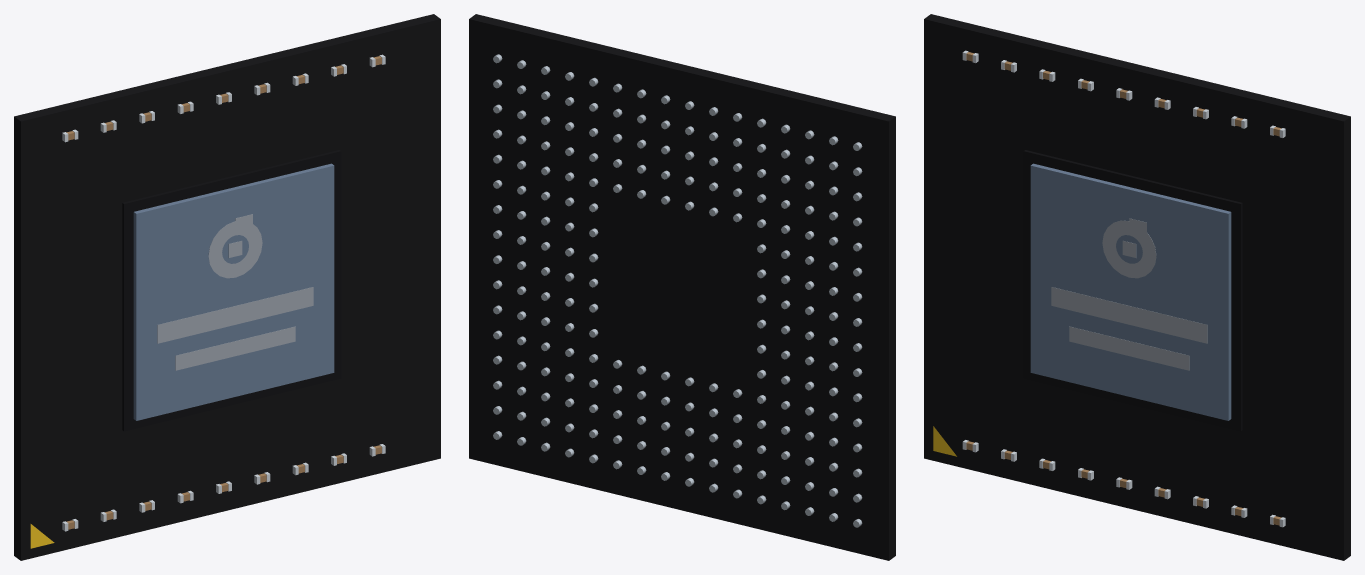
The model's file is CPU_QUALCOMM_SNAPDRAGON_X_ELITE_ARM64.obj.
3 renders of one model, left to right at view 1: azimuth 30°, elevation 25°; view 2: azimuth 150°, elevation 25°; view 3: azimuth 330°, elevation 25°, orthographic.
Size of the model in its own units: 35 by 35 by 2.07.
